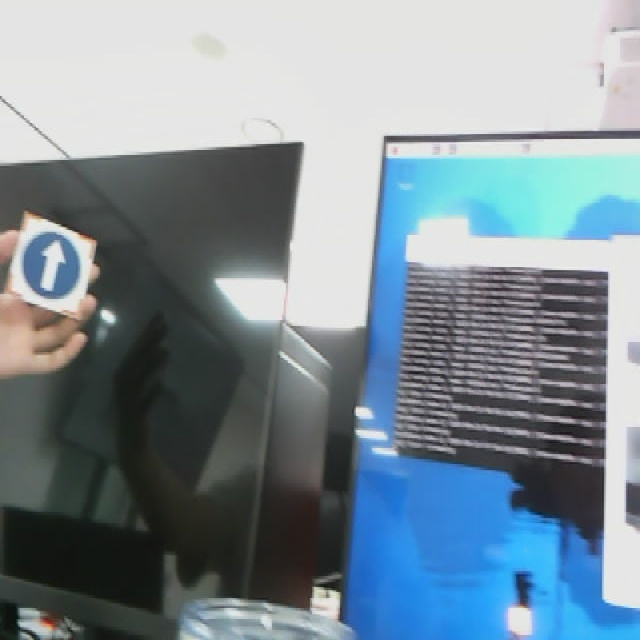strait: (7, 208, 98, 322)
